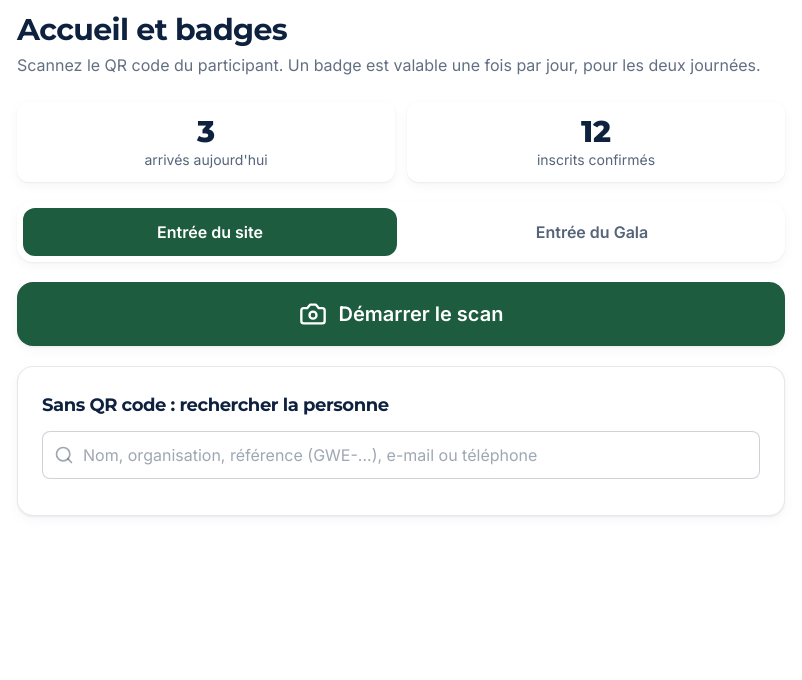
Test: Accueil : scan des badges › l'agent d'accueil ne voit ni l'impression, ni l'annulation, ni la réémission
The width and height of the screenshot is (802, 680).
expect the text "arrivés aujourd'hui" is shown: met, box [144,151,268,168]
Type "awa" into the search field labelled "Nom, organisation, référence (GWE-…), e-mail ou téléphone" at point(401, 455), box [42,431,760,479]
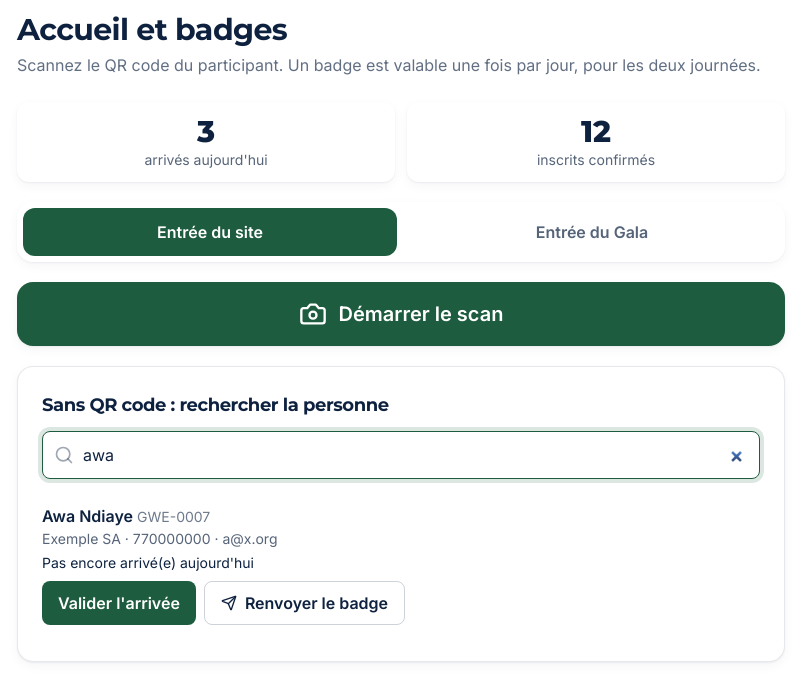
expect the button "Valider l'arrivée" is shown: met, box [42,581,196,625]
